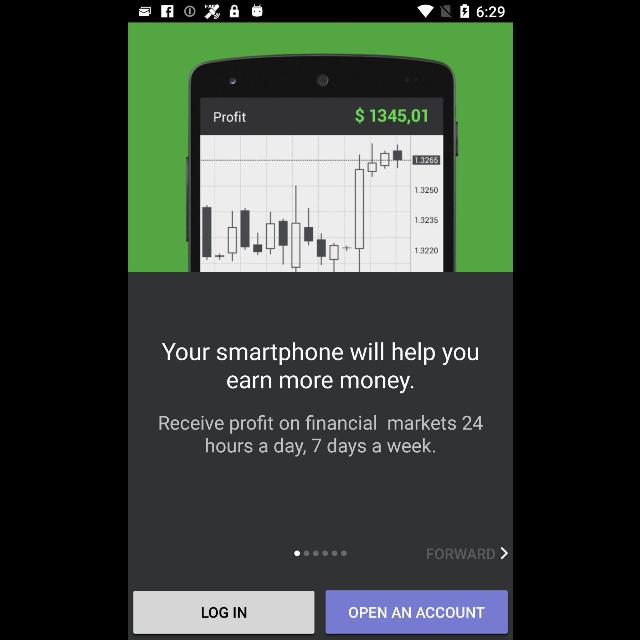icon: (500, 546, 508, 560)
image: (185, 53, 458, 271)
pageindicator: (294, 550, 346, 556)
text: (160, 342, 478, 394), (158, 415, 482, 457), (426, 548, 494, 560)
textbutton: (325, 590, 507, 634), (132, 592, 314, 634)
uppertaskbar: (128, 1, 512, 23)
